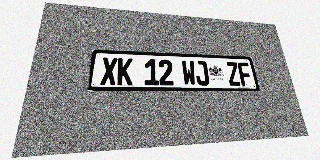1: (144, 59, 159, 85)
2: (159, 59, 174, 85)
F: (237, 62, 253, 86)
J: (194, 61, 210, 86)
K: (117, 58, 133, 85)
W: (181, 60, 197, 85)
X: (100, 57, 117, 85)
Z: (226, 62, 241, 86)
